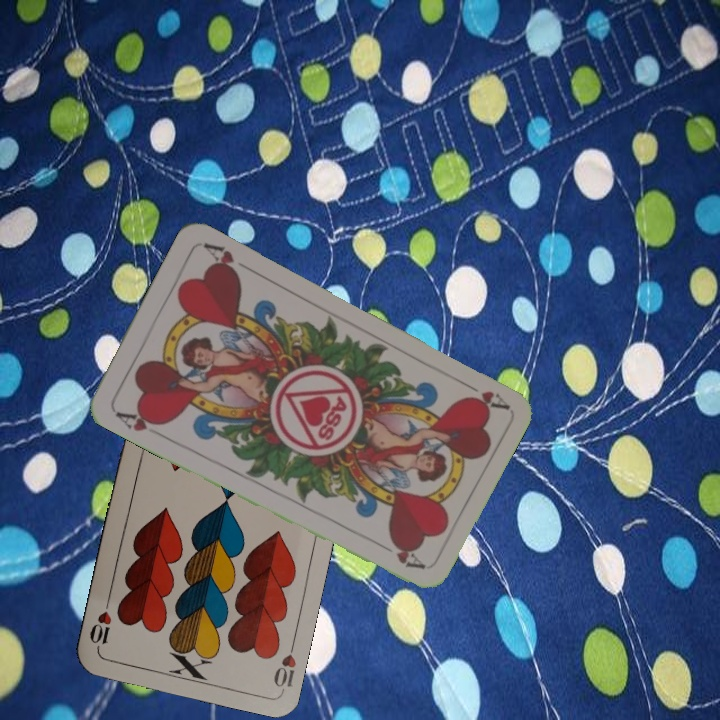H10: (269, 634, 299, 693)
HA: (455, 376, 510, 413), (111, 405, 167, 439)
